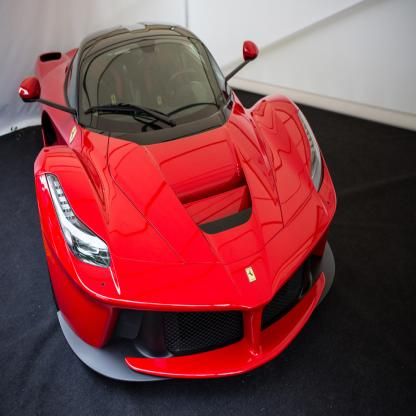Car: (19, 22, 338, 385)
